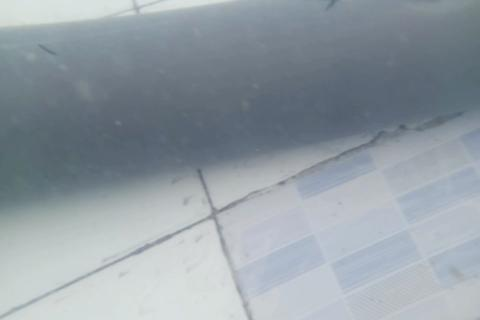keretakan: (36, 40, 58, 58), (324, 0, 338, 14)
